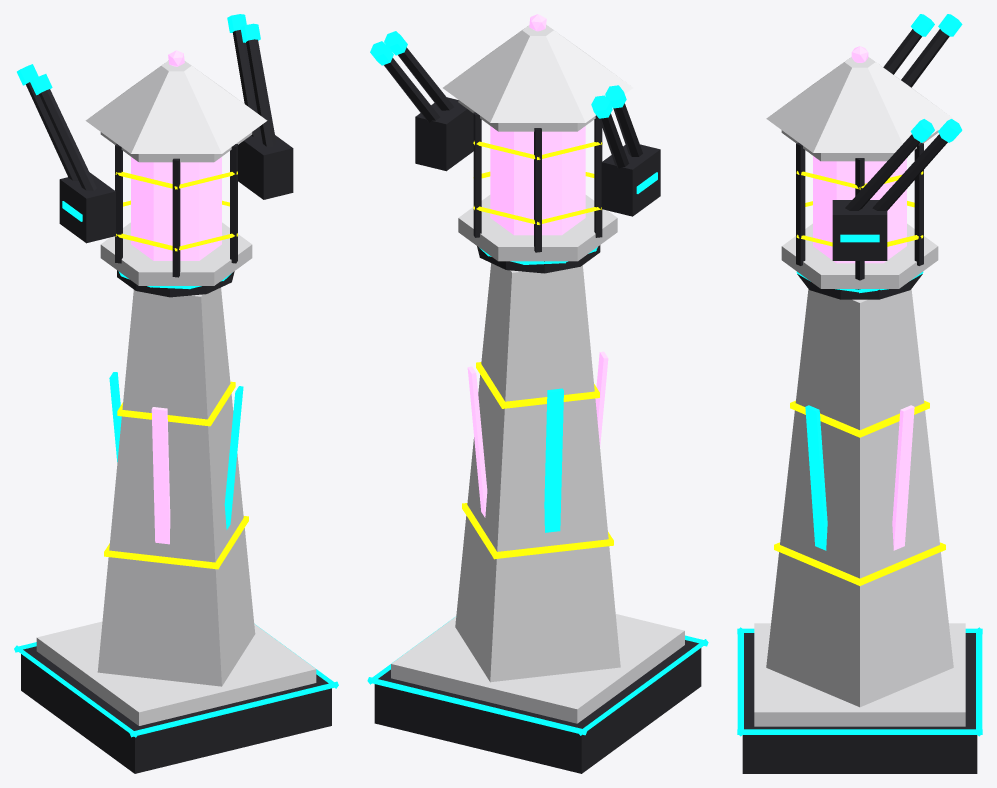
Rendered from FlakLantern.fbx.
3 renders of one model, left to right at view 1: azimuth 30°, elevation 25°; view 2: azimuth 150°, elevation 25°; view 3: azimuth 270°, elevation 25°, orthographic. The views are drawn at different scales.
Visible parts, largest first — view 1: Flak_Tower, Flak_Base, Flak_BaseTop, Flak_Roof, Flak_LanternCore, Flak_LanternFloor, Flak_Pod1, Flak_Pod-1, Flak_TowerStrip2, Flak_BaseGlow, Flak_Barrel-1-1, Flak_Barrel1-1 (+13 smaller); view 2: Flak_Tower, Flak_Base, Flak_BaseTop, Flak_Roof, Flak_LanternCore, Flak_LanternFloor, Flak_Pod1, Flak_Pod-1, Flak_TowerStrip1, Flak_BaseGlow, Flak_TowerBand0, Flak_TowerStrip0 (+13 smaller); view 3: Flak_Tower, Flak_Base, Flak_Roof, Flak_BaseTop, Flak_LanternFloor, Flak_LanternCore, Flak_BaseGlow, Flak_Pod1, Flak_TowerStrip0, Flak_TowerStrip3, Flak_TowerBand0, Flak_Barrel11 (+9 smaller).
Boxes of the visible parts, x1,y1,x2,y2 form: Flak_Tower: (97,287,255,686); Flak_Base: (21,646,331,773); Flak_BaseTop: (36,621,316,725); Flak_Roof: (85,60,267,153); Flak_LanternCore: (131,157,221,260); Flak_LanternFloor: (100,222,252,285); Flak_Pod1: (238,135,293,199); Flak_Pod-1: (59,172,115,243); Flak_TowerStrip2: (151,407,170,544); Flak_BaseGlow: (14,624,338,737); Flak_Barrel-1-1: (39,89,96,190); Flak_Barrel1-1: (246,39,276,146); Flak_Tower: (455,263,620,682); Flak_Base: (374,640,701,773); Flak_BaseTop: (391,614,684,723); Flak_Roof: (443,24,632,122); Flak_LanternCore: (490,126,585,235); Flak_LanternFloor: (458,195,617,261); Flak_Pod1: (415,97,473,171); Flak_Pod-1: (601,144,660,216); Flak_TowerStrip1: (544,388,563,532); Flak_BaseGlow: (367,617,708,735); Flak_TowerBand0: (462,503,613,559); Flak_TowerStrip0: (467,366,487,517); Flak_Tower: (766,289,953,707); Flak_Base: (742,633,977,773); Flak_Roof: (766,57,953,152); Flak_BaseTop: (754,623,965,726); Flak_LanternFloor: (781,223,938,288); Flak_LanternCore: (813,156,906,263); Flak_BaseGlow: (737,627,982,736); Flak_Pod1: (832,200,887,260); Flak_TowerStrip0: (892,405,914,550); Flak_TowerStrip3: (805,405,827,550); Flak_TowerBand0: (774,542,945,585); Flak_Barrel11: (872,134,947,210).
Size of the model in its own units: 0.6862 by 1.92 by 0.6283.
